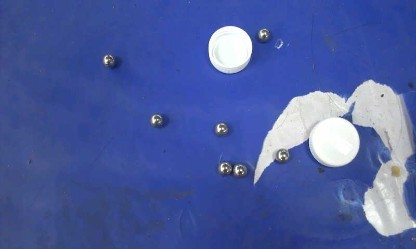ironball: (274, 148, 289, 163), (149, 112, 163, 127), (101, 53, 115, 68), (232, 163, 247, 177), (214, 121, 228, 136), (217, 161, 231, 175), (257, 27, 270, 42)
